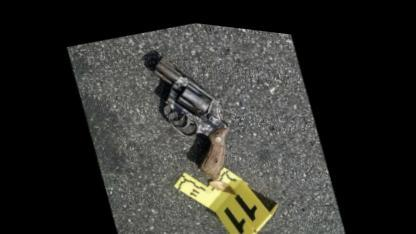pistol: (134, 29, 256, 190)
